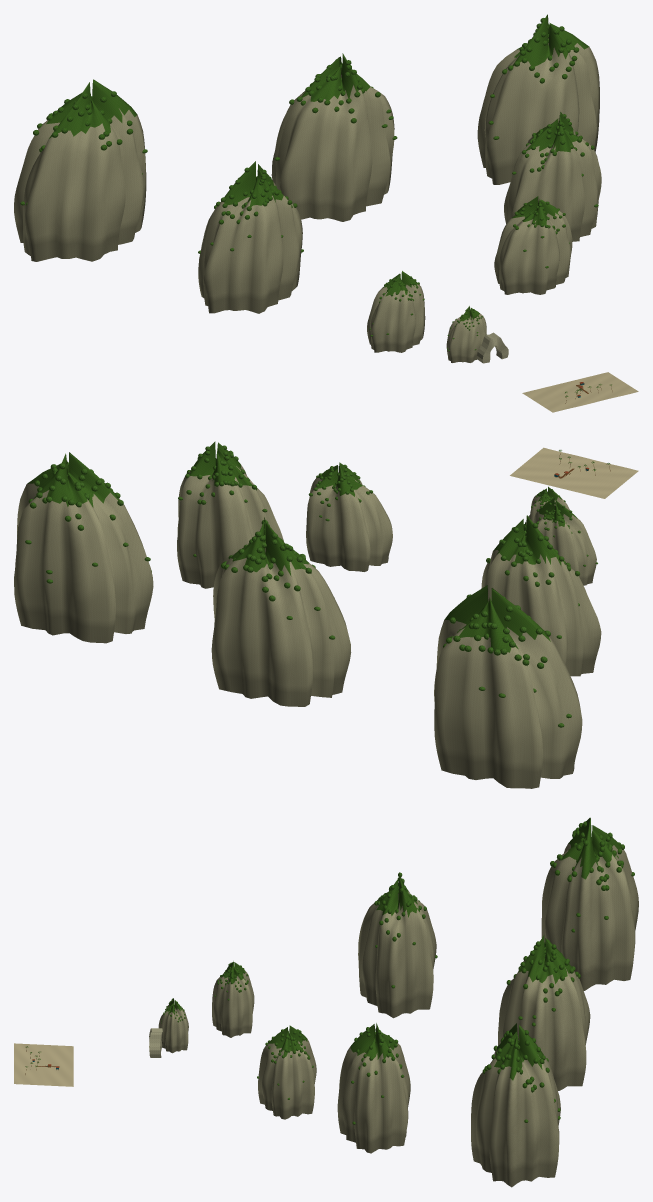
The model's file is phuket_midday.glb.
The picture shows the model from 3 angles, top to bottom: view 1: azimuth 30°, elevation 25°; view 2: azimuth 150°, elevation 25°; view 3: azimuth 270°, elevation 25°; orthographic projection. The views are drawn at different scales.
Parts seen in each view (by area): view 1: PhuketMidday_Landscape; view 2: PhuketMidday_Landscape; view 3: PhuketMidday_Landscape.
Boxes of the visible parts, x1,y1,x2,y2 form: PhuketMidday_Landscape: (14,14,638,412); PhuketMidday_Landscape: (14,441,638,788); PhuketMidday_Landscape: (14,817,638,1187).
Bounding box in the file's own units: 1323 × 372 × 1365.
Materials: 8 (8 with a texture image).
